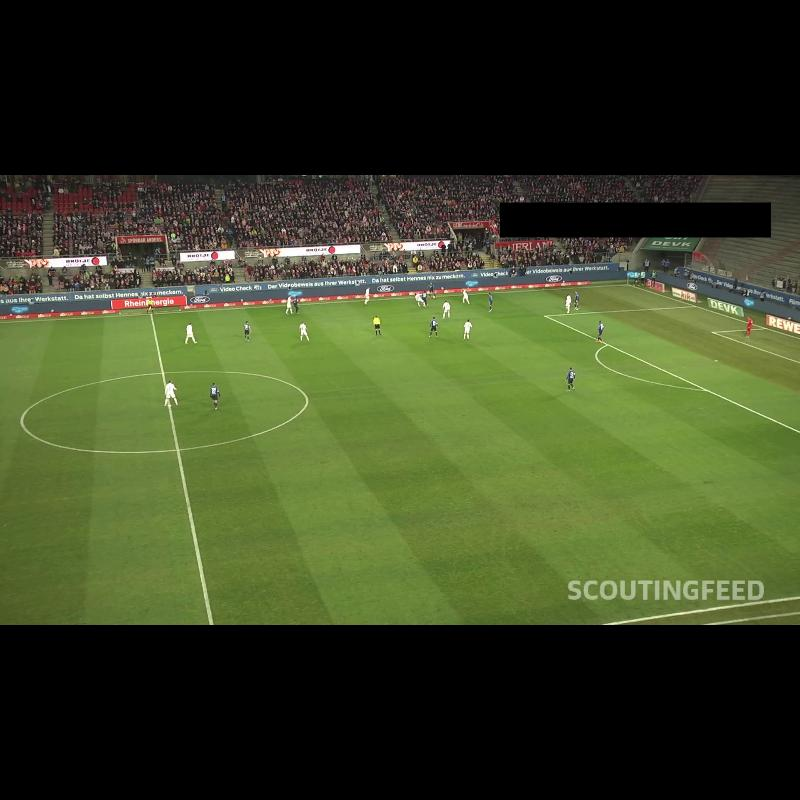cross_recipient_zone: (544, 306, 800, 433)
crossing_player_zone: (656, 449, 800, 559), (400, 284, 696, 322)
pitch: (0, 284, 800, 625)
